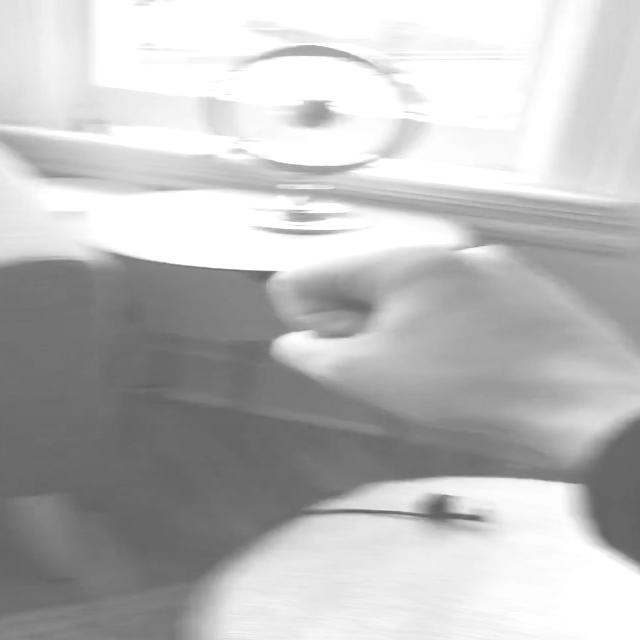Rock: (257, 240, 640, 445)
